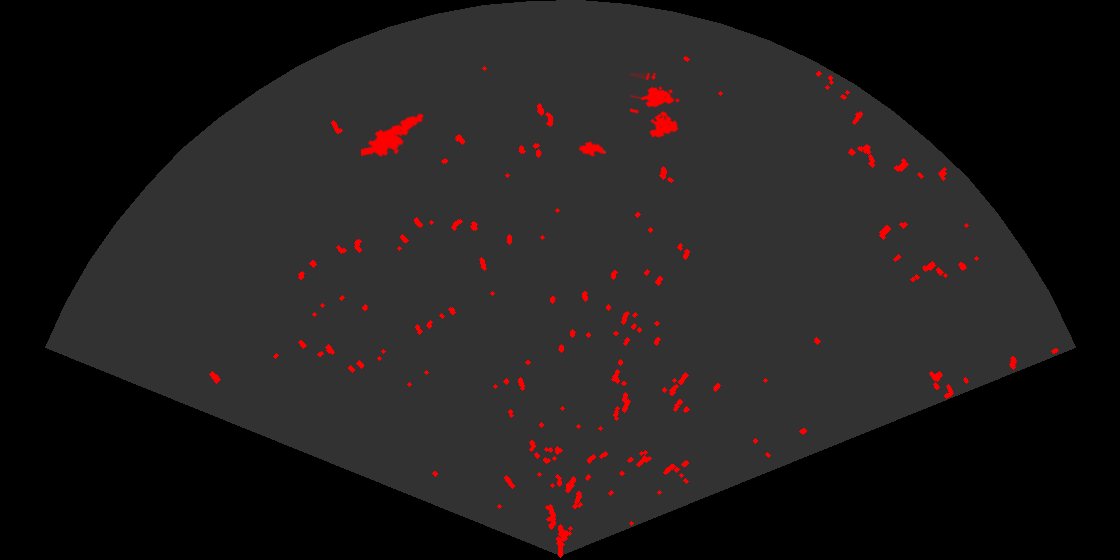AUV: (577, 139, 608, 158)
cage: (630, 73, 681, 139)
frogman: (361, 112, 426, 159)
